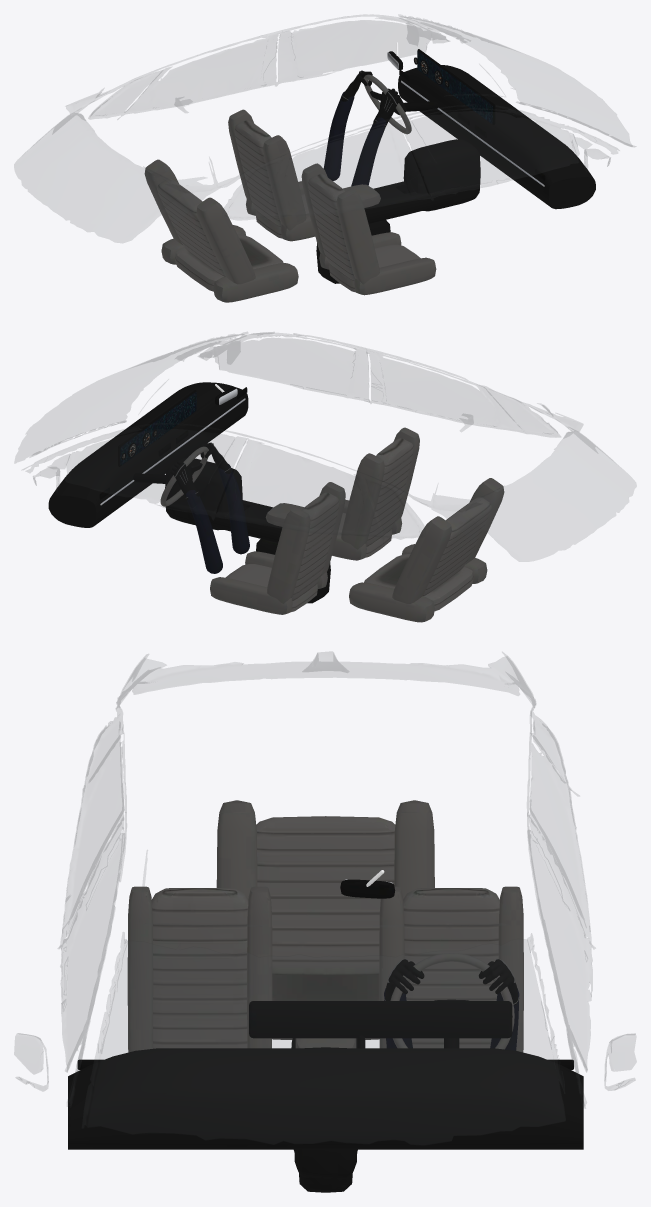
Rendered from rp1_vanta_cockpit.glb.
The picture shows the model from 3 angles, top to bottom: view 1: azimuth 30°, elevation 25°; view 2: azimuth 150°, elevation 25°; view 3: azimuth 270°, elevation 25°; orthographic projection. The views are drawn at different scales.
Visible parts, largest first — view 1: cockpit_shell, cabin_glass, window_R, window_L, hands, steering_wheel; view 2: cockpit_shell, cabin_glass, window_L, window_R, hands, steering_wheel; view 3: cockpit_shell, cabin_glass, window_R, window_L, hands, steering_wheel.
Boxes of the visible parts, box(x1,y1,x2,y2) form: cockpit_shell: box(144, 42, 595, 302); cabin_glass: box(14, 17, 635, 242); window_R: box(399, 94, 609, 199); window_L: box(264, 15, 450, 86); hands: box(323, 70, 401, 186); steering_wheel: box(363, 74, 411, 134); cockpit_shell: box(48, 382, 504, 622); cabin_glass: box(15, 334, 636, 561); window_L: box(40, 420, 247, 519); window_R: box(190, 332, 383, 404); hands: box(170, 442, 249, 573); steering_wheel: box(160, 446, 208, 506); cockpit_shell: box(68, 800, 583, 1192); cabin_glass: box(14, 652, 636, 1144); window_R: box(18, 812, 147, 1086); window_L: box(527, 812, 634, 1089); hands: box(384, 958, 519, 1050); steering_wheel: box(390, 953, 514, 1049).
Bounding box in the file's own units: 3.3 × 1.28 × 1.93.
Materials: 4 (2 with a texture image).
